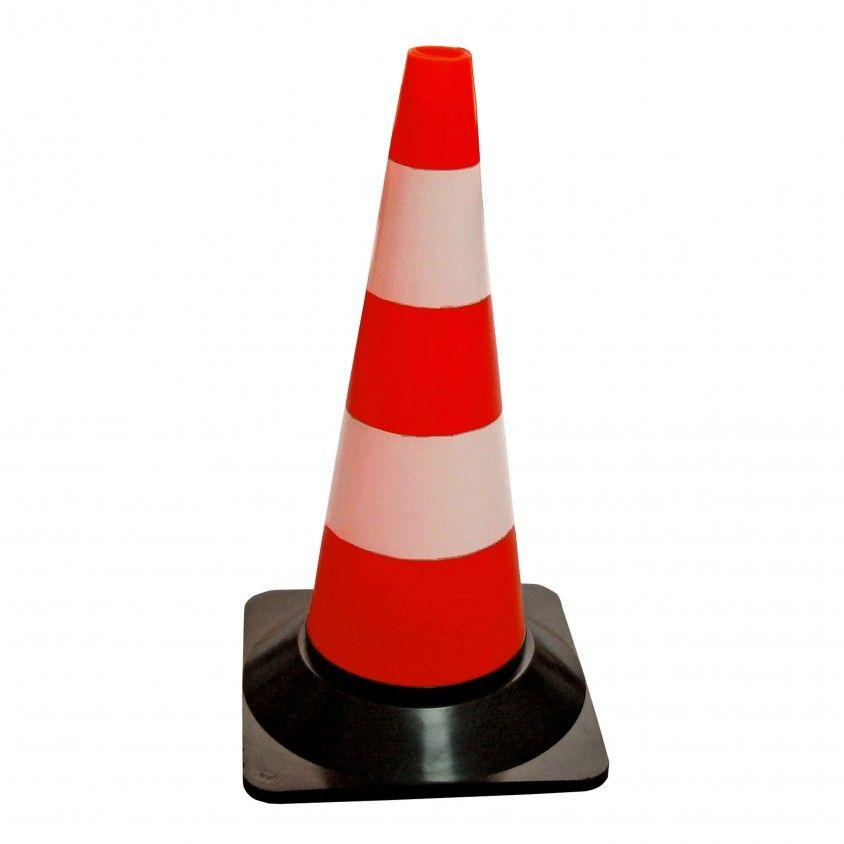traffic_cone: (241, 43, 610, 802)
